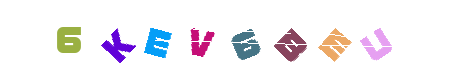6: (28, 0, 108, 80), (205, 0, 285, 80)
B: (215, 0, 295, 80)
E: (117, 0, 197, 80), (291, 0, 371, 80)
K: (77, 0, 157, 80)
U: (311, 0, 391, 80)
V: (190, 0, 270, 80)
